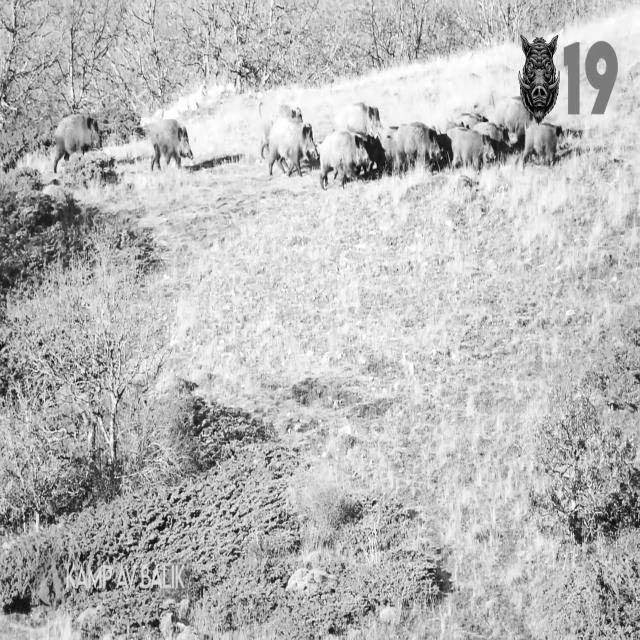boar: (518, 34, 559, 123), (319, 130, 371, 188), (269, 117, 319, 175), (53, 114, 101, 171), (259, 102, 303, 158), (148, 118, 193, 169), (392, 122, 440, 169), (448, 127, 495, 167), (496, 95, 534, 142), (524, 122, 564, 165), (336, 101, 382, 134), (474, 120, 510, 141), (448, 111, 488, 128)
